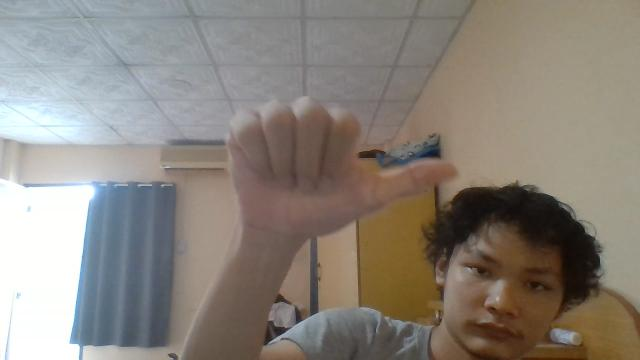left: (224, 95, 458, 239)
